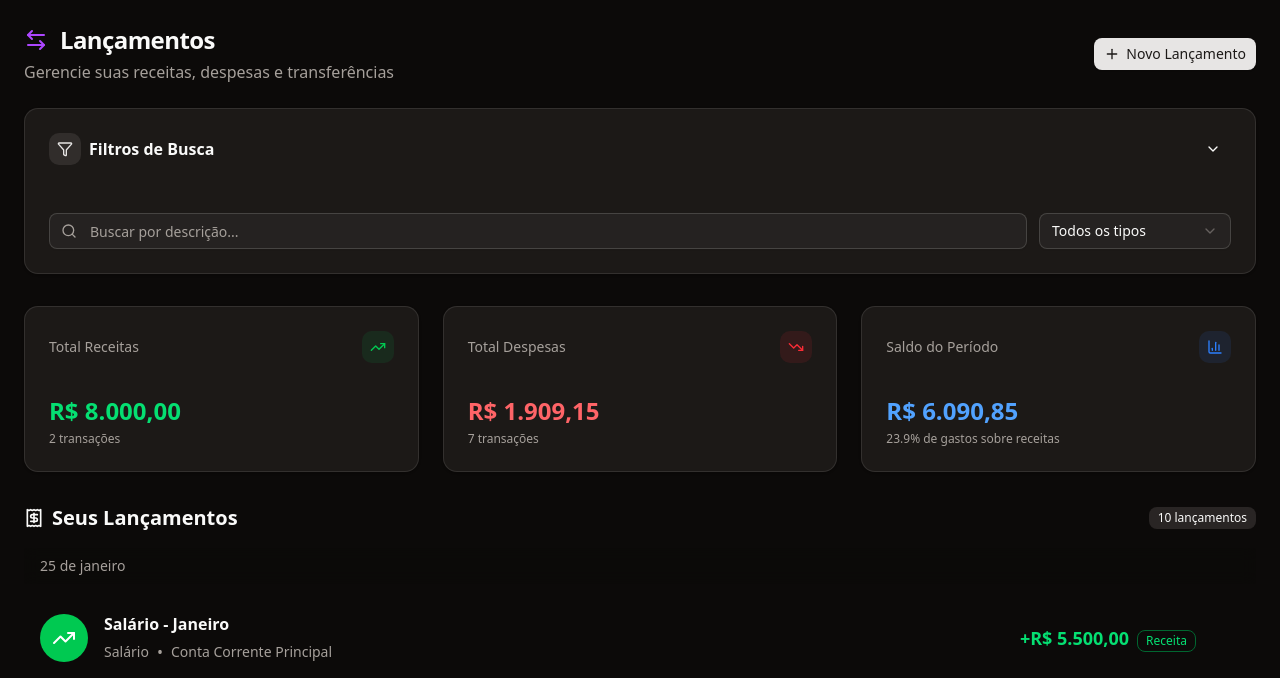
Test: Transactions Page — Filters › applies text/type filters, shows filtered indicator, and clears filters
This screenshot has width=1280, height=678.
# Search input
Type "mercado" into the field labelled "Buscar" at (538, 231), box [49,213,1027,249]
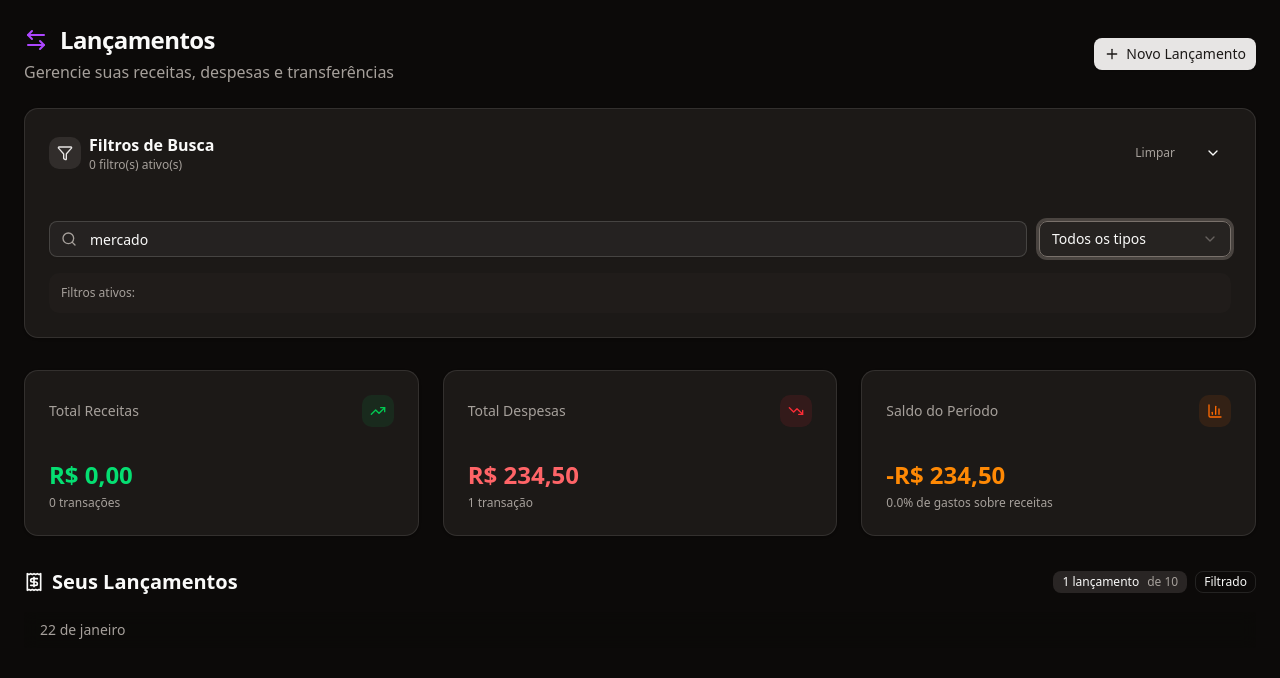
Press Arrowdown
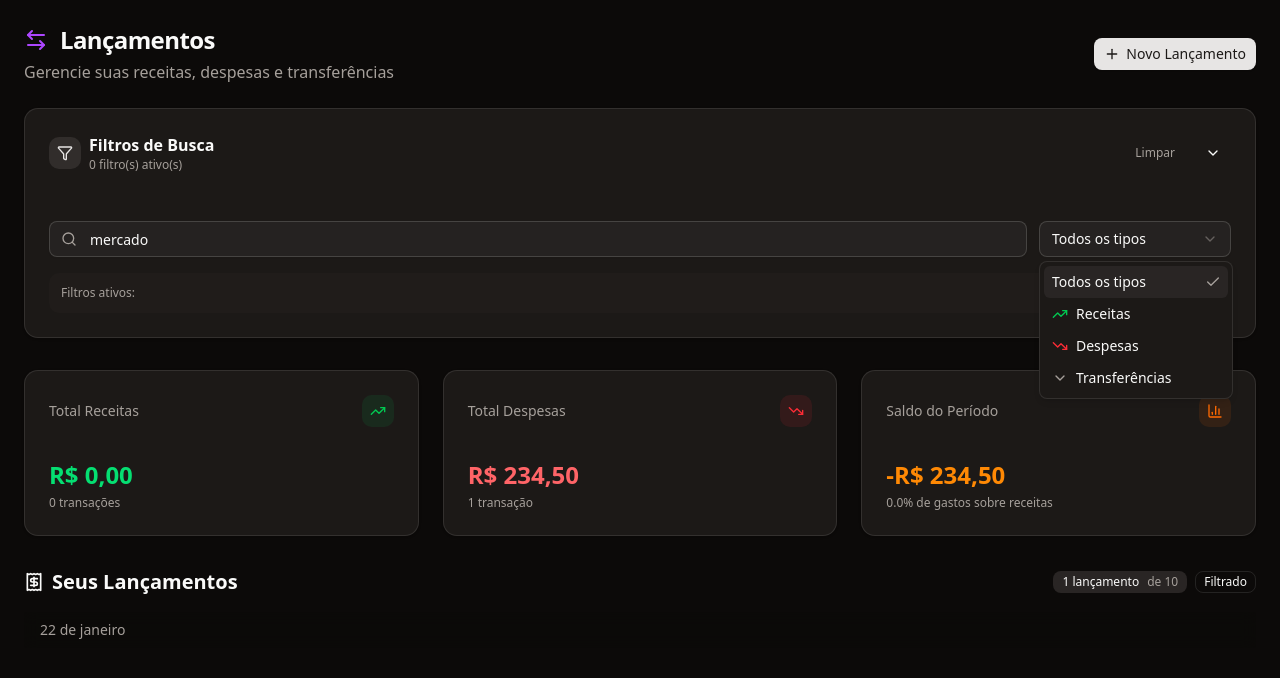
Click the option "Despesas" at (1095, 346), box [1052,336,1139,355]
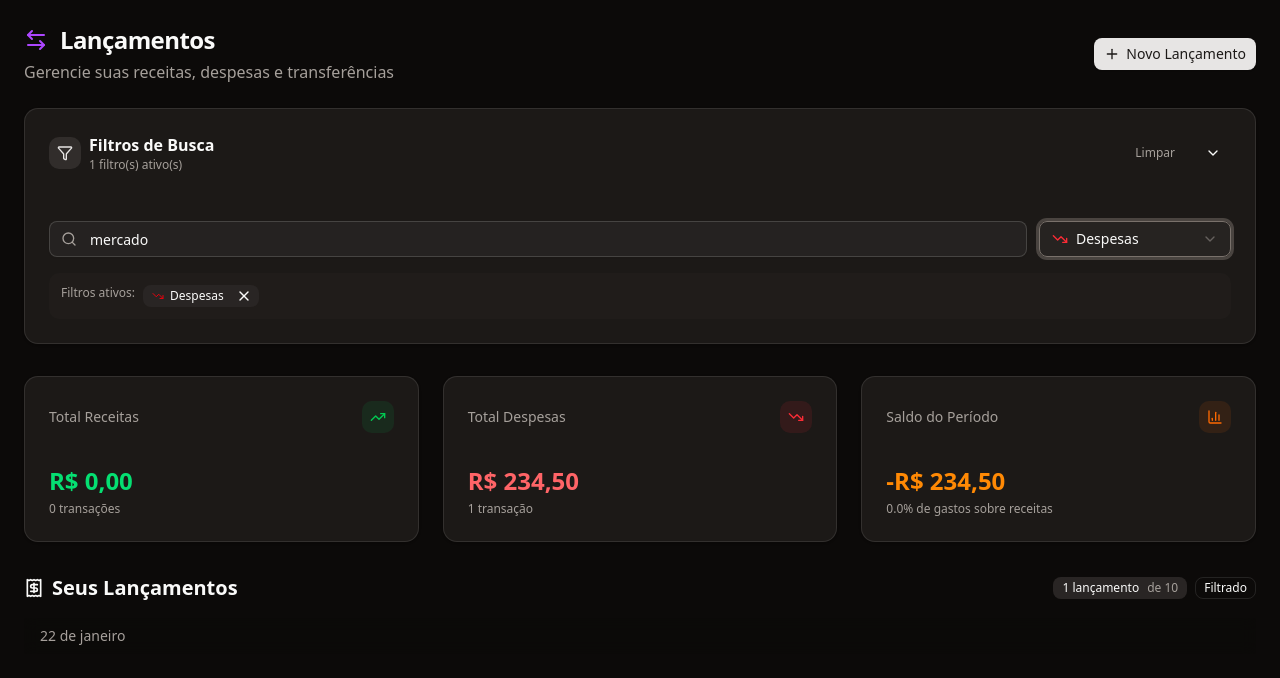
Expected: the element with test id "active-filters" is shown, [49,273,1231,319]
Expected: the dropdown reads "Despesas", [1039,221,1231,257]
# Clear filters
Click the button "Limpar" at (1155, 153), box [1123,137,1187,169]
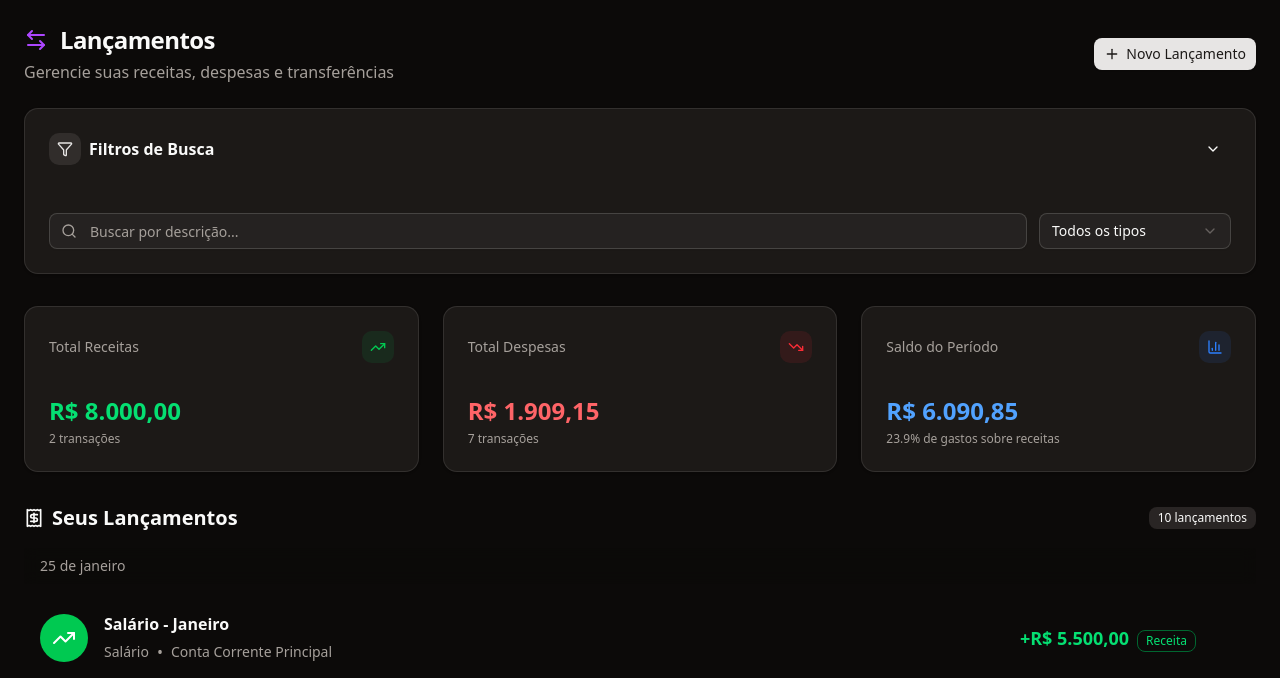
Expected: the element with test id "active-filters" is gone
